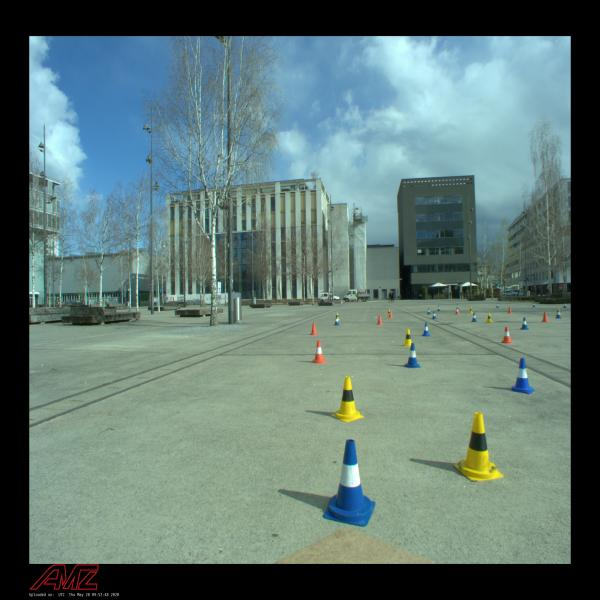blue_cone: (322, 440, 376, 526), (509, 358, 535, 394), (403, 343, 421, 368), (421, 322, 431, 337), (520, 317, 529, 330), (333, 316, 340, 325), (471, 313, 478, 322), (555, 310, 562, 318), (432, 311, 436, 319), (427, 308, 431, 314), (532, 302, 536, 308), (563, 302, 567, 308), (437, 306, 441, 311), (456, 304, 459, 309), (496, 303, 499, 308)
orange_cone: (310, 341, 327, 363), (501, 326, 513, 344), (309, 322, 318, 336), (541, 312, 549, 322), (376, 315, 383, 325), (388, 310, 393, 318), (508, 306, 512, 314), (455, 308, 460, 314)
yellow_cone: (453, 412, 504, 481), (331, 376, 364, 422), (402, 328, 415, 346), (486, 313, 493, 323), (556, 307, 562, 316), (468, 306, 474, 314), (334, 313, 340, 320), (387, 309, 391, 316)
